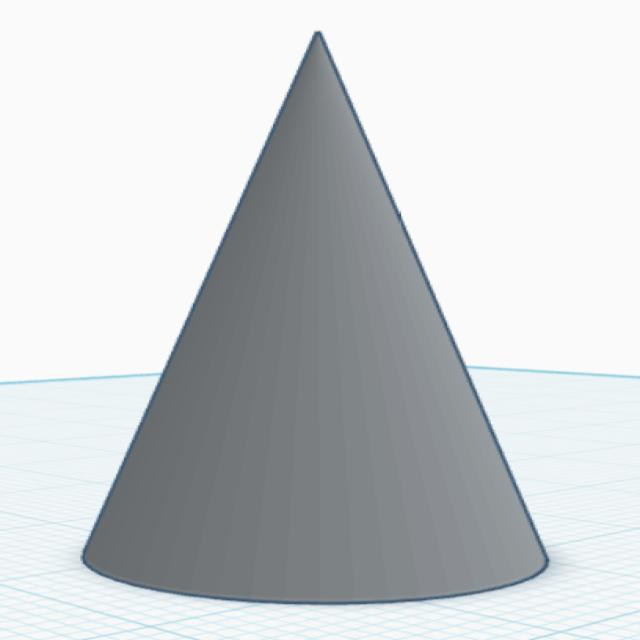cone: (75, 26, 558, 610)
